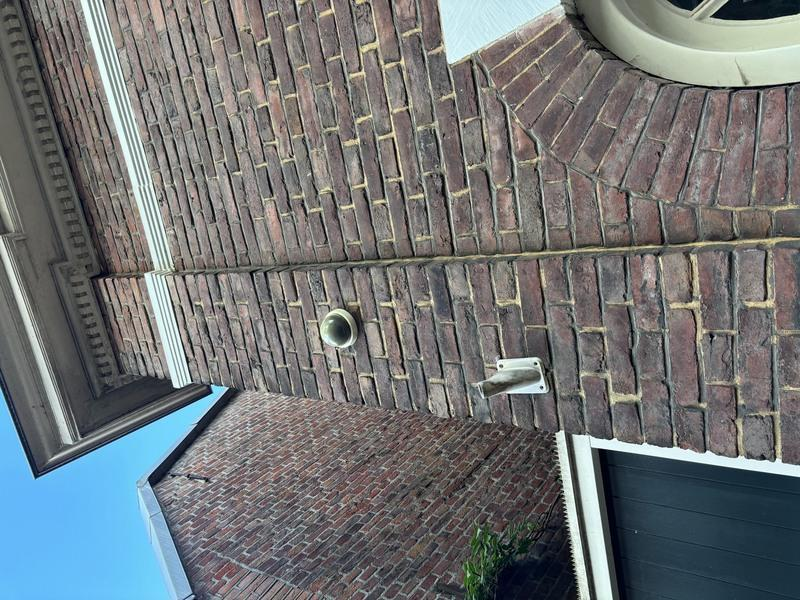dome: (244, 312, 297, 360)
